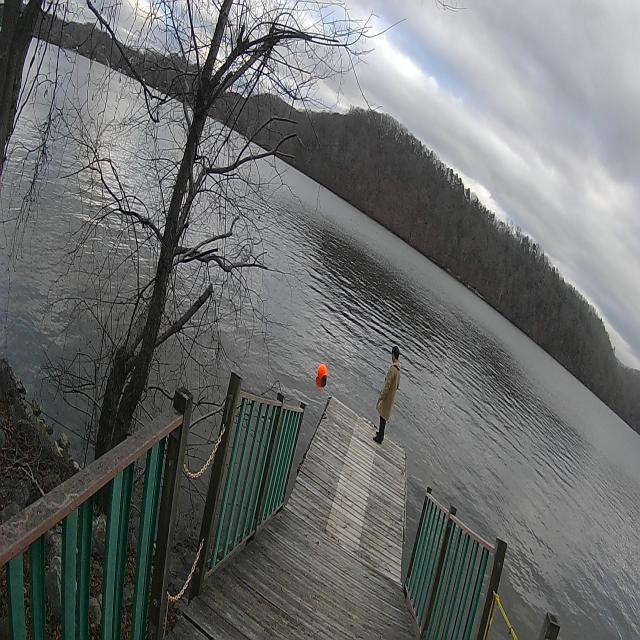Buoy: (313, 358, 331, 390)
